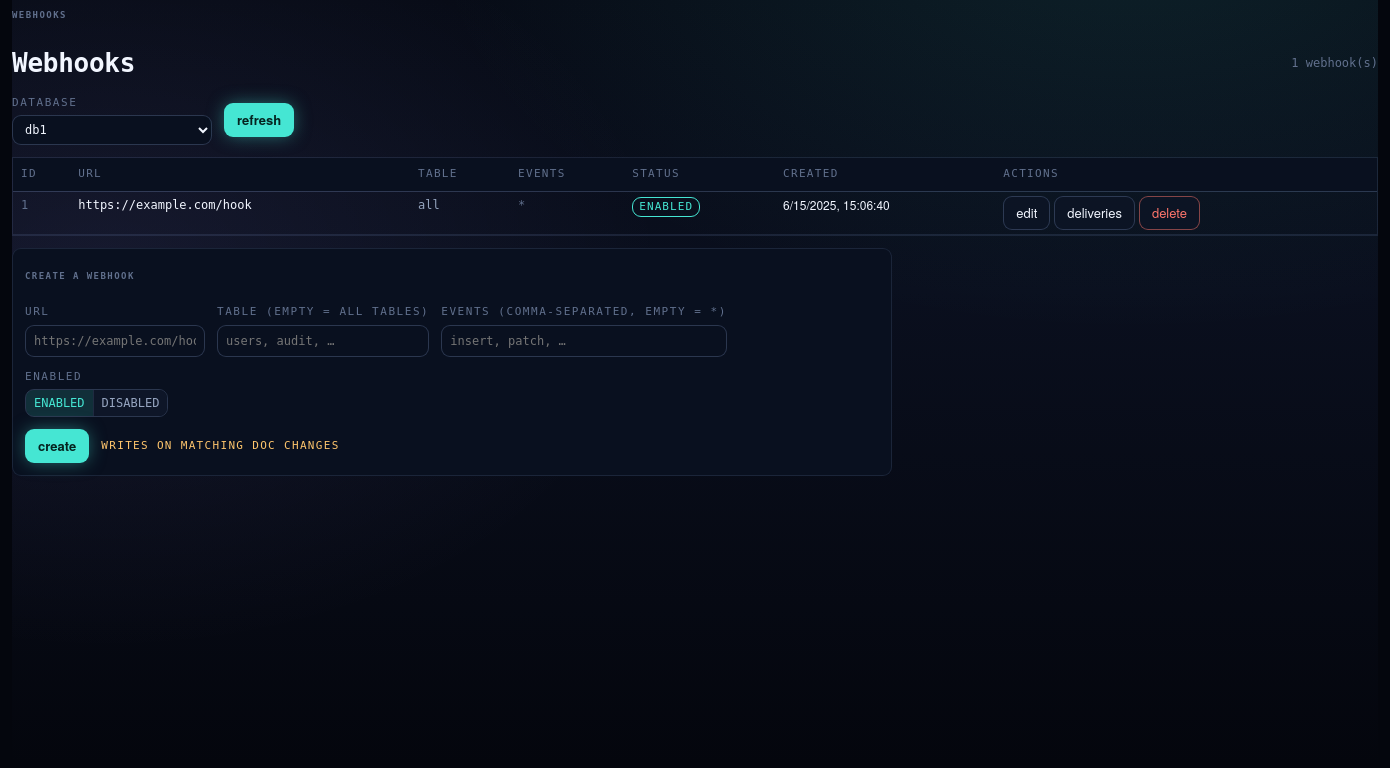
Test: WebhooksPage › redelivers only failed rows and refreshes their outcome
The width and height of the screenshot is (1390, 768).
Expected: the text "https://example.com/hook" is shown, [70,191,410,234]
Click the button "deliveries".
click(1095, 212)  # box [1054,196,1135,230]
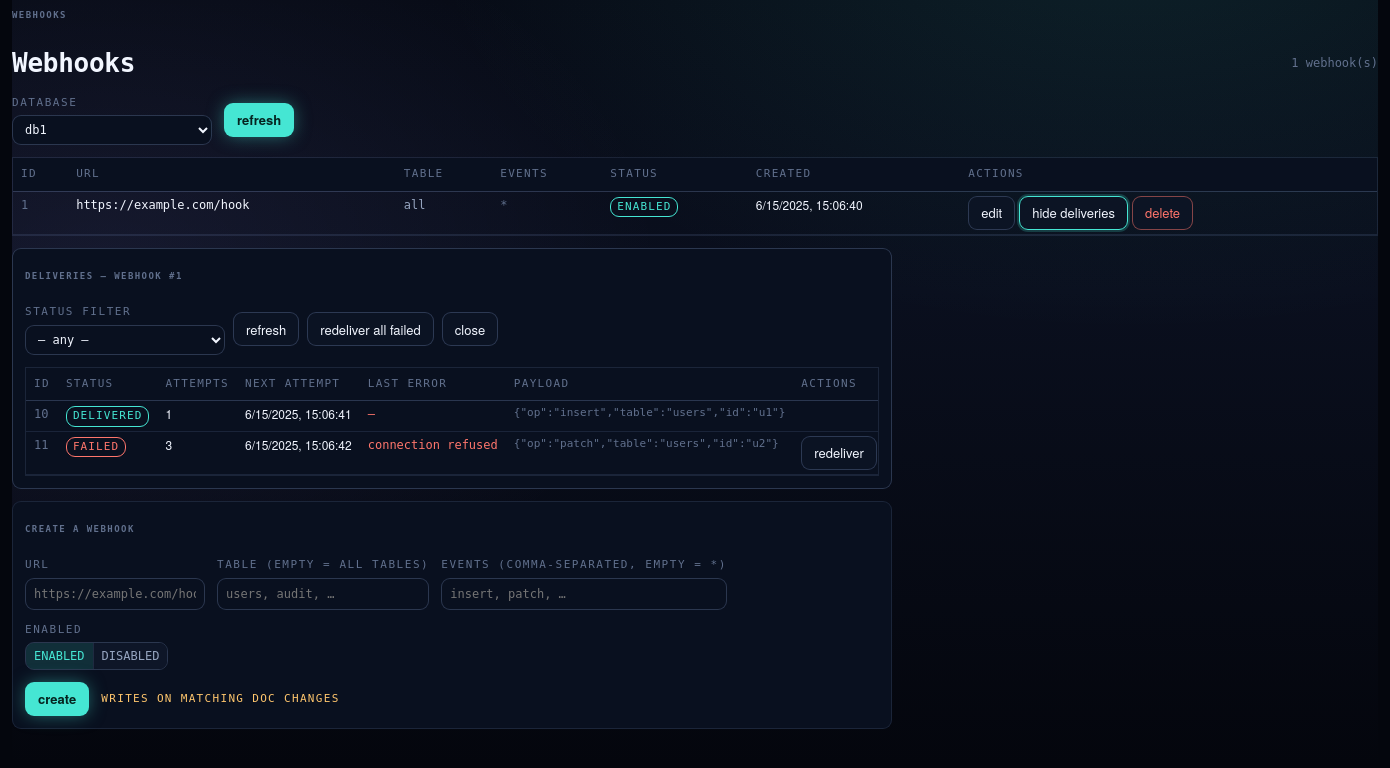
Now the number of buttons "redeliver" is 1
Click the button "redeliver".
click(839, 452)  # box [801,436,877,470]
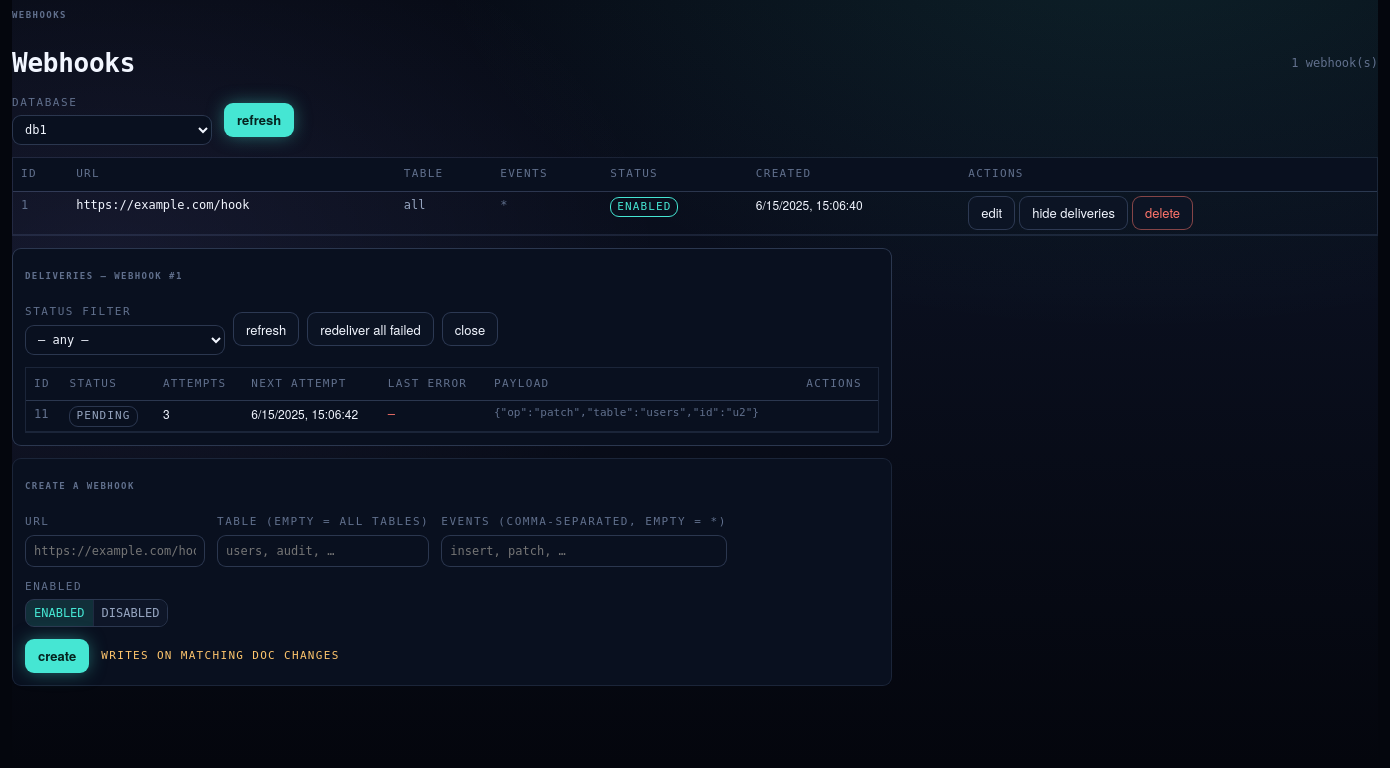
Now the text "pending" is shown, box [70,406,138,426]
